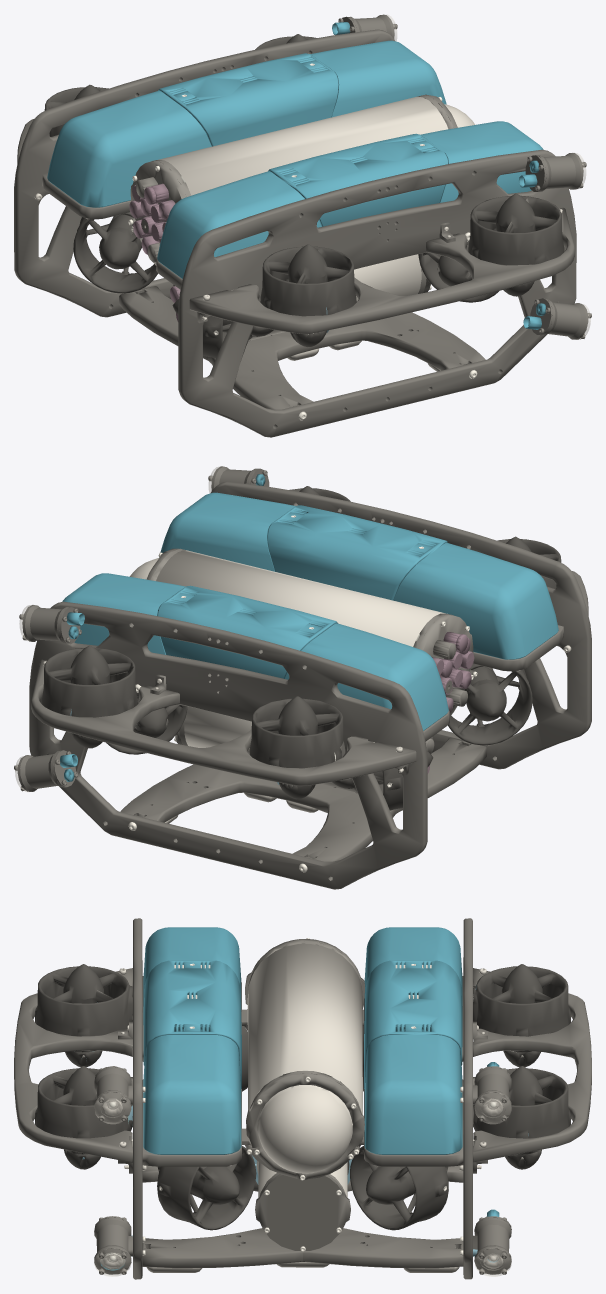
Rendered from duburi_heavy_livery.dae.
The picture shows the model from 3 angles, top to bottom: view 1: azimuth 30°, elevation 25°; view 2: azimuth 150°, elevation 25°; view 3: azimuth 270°, elevation 25°; orthographic projection.
Parts seen in each view (by area): view 1: BROV2-HEAVY-45; view 2: BROV2-HEAVY-45; view 3: BROV2-HEAVY-45.
Part boxes in pixels (left/top/right/bottom): BROV2-HEAVY-45: left=14, top=14, right=591, bottom=437; BROV2-HEAVY-45: left=14, top=466, right=591, bottom=889; BROV2-HEAVY-45: left=14, top=918, right=591, bottom=1279.
Size of the model in its own units: 17.99 by 22.62 by 9.97.
